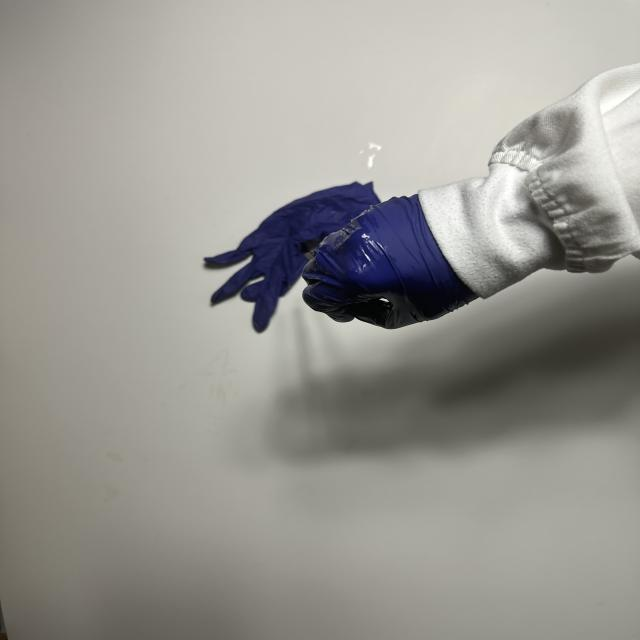gloves_contaminated: (302, 194, 478, 328)
